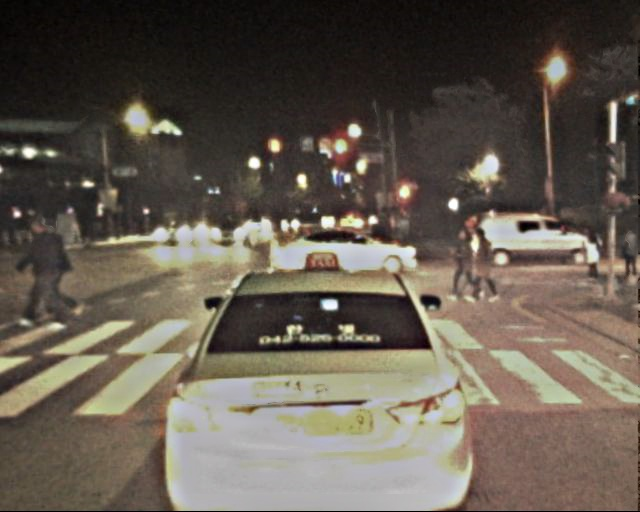person: (32, 216, 77, 326), (450, 228, 481, 304), (473, 229, 504, 304), (579, 226, 606, 292), (615, 227, 639, 286)
